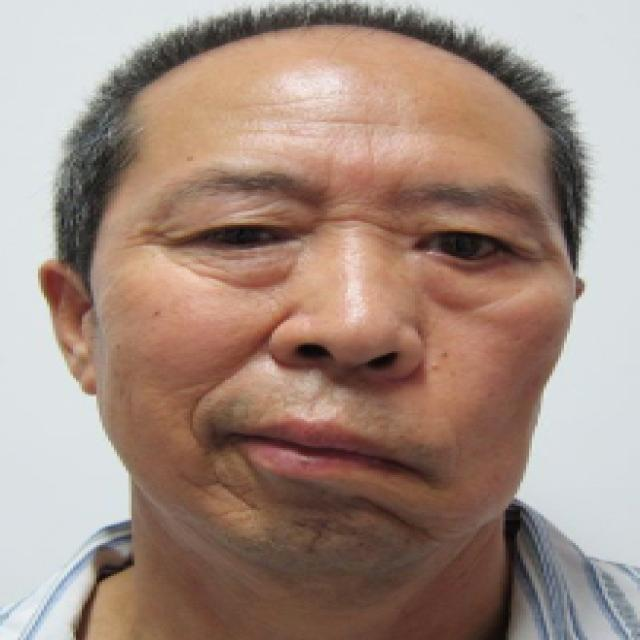stroke_face: (88, 51, 558, 597)
